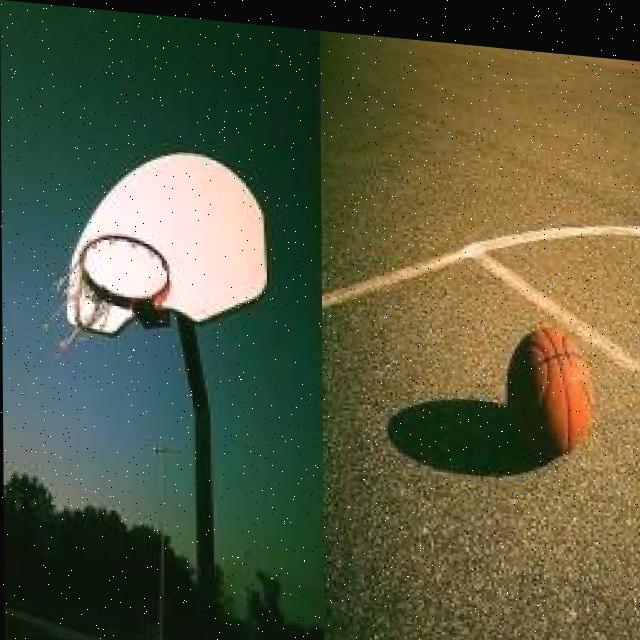basketball: (502, 322, 595, 468)
hoop: (42, 225, 173, 373)
